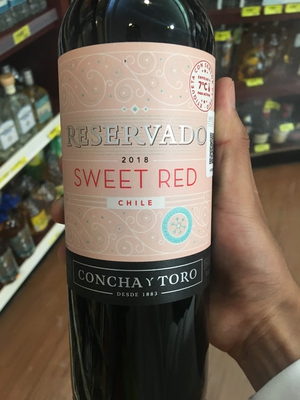reservado sweet red: (54, 11, 232, 400)
